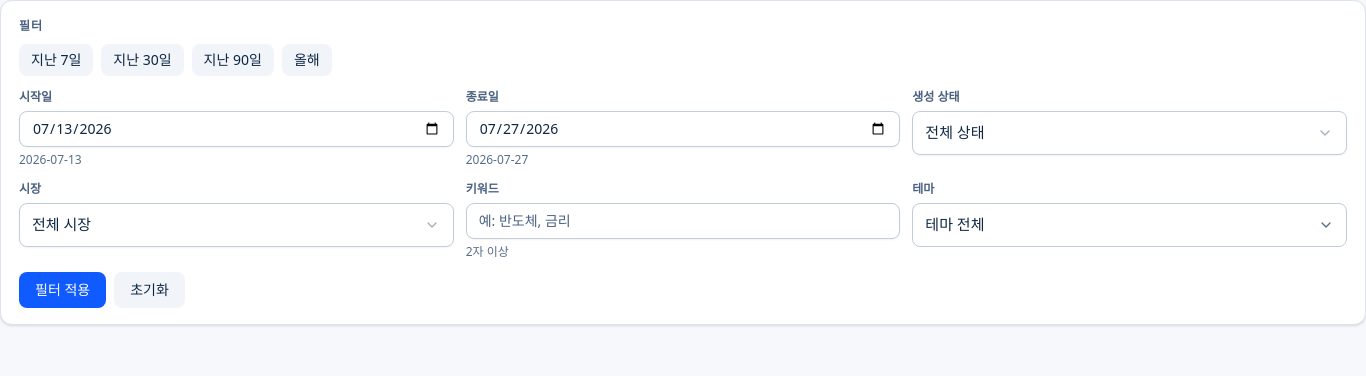
it: ArchiveSearchFilters › rejects from > to with the exact swap message, attached to the start date field
Type "2026-07-27" into the date field labelled "시작일" at (236,129), box [19,111,454,147]
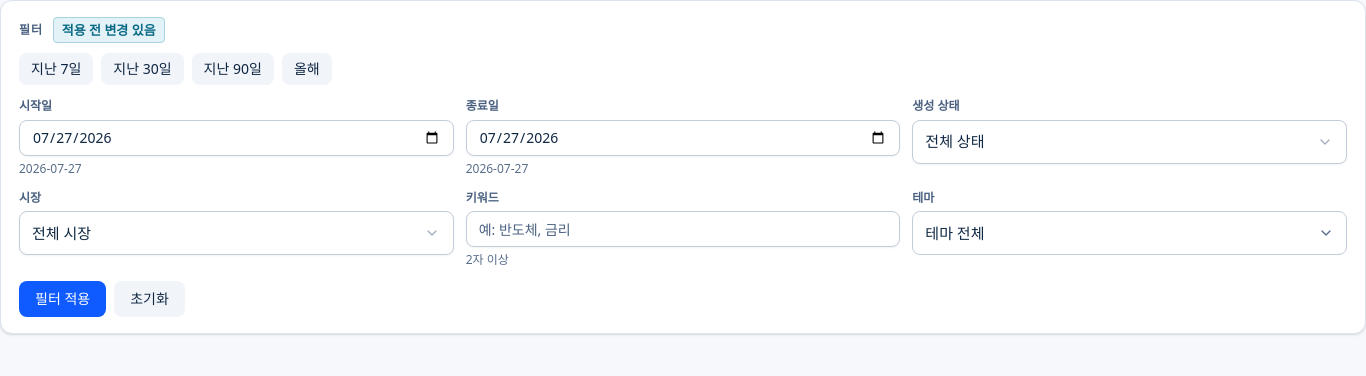
Type "2026-07-13" into the date field labelled "종료일" at (683,138), box [466,120,900,156]
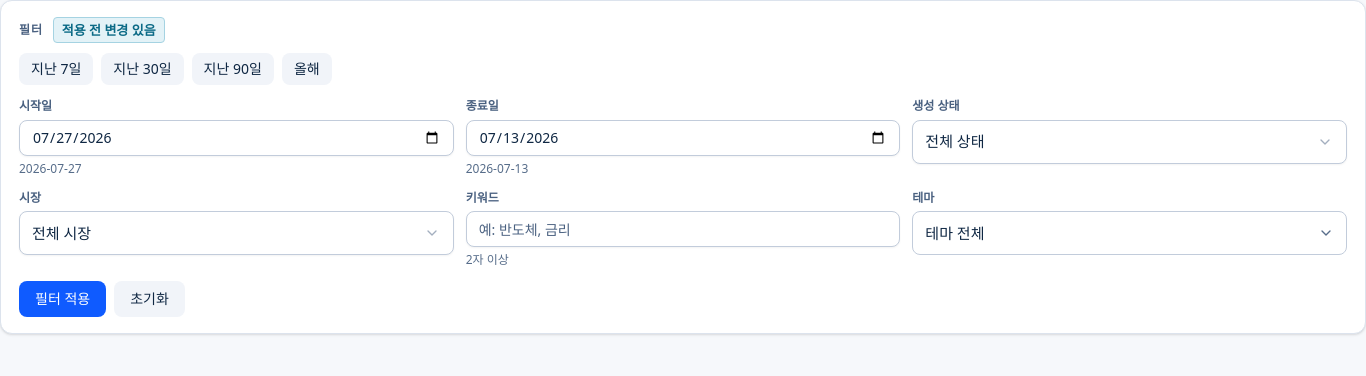
Click the button "필터 적용" at (63,299), box [19,281,106,317]
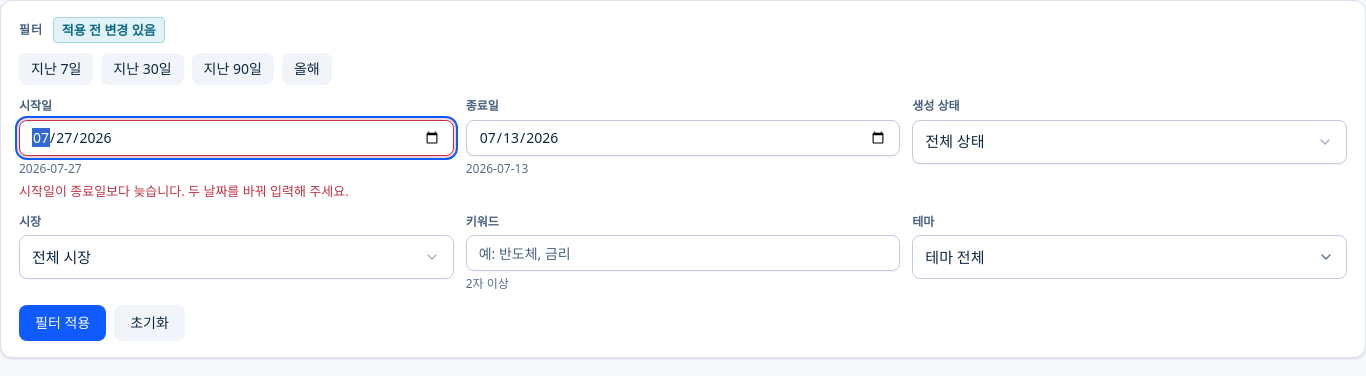
Expected: the text "시작일이 종료일보다 늦습니다. 두 날짜를 바꿔 입력해 주세요." is shown, [19,182,349,200]
